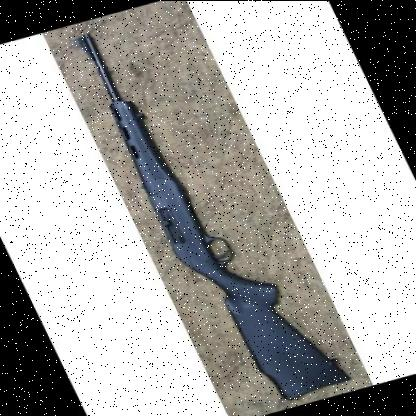rifle: (66, 12, 348, 409)
